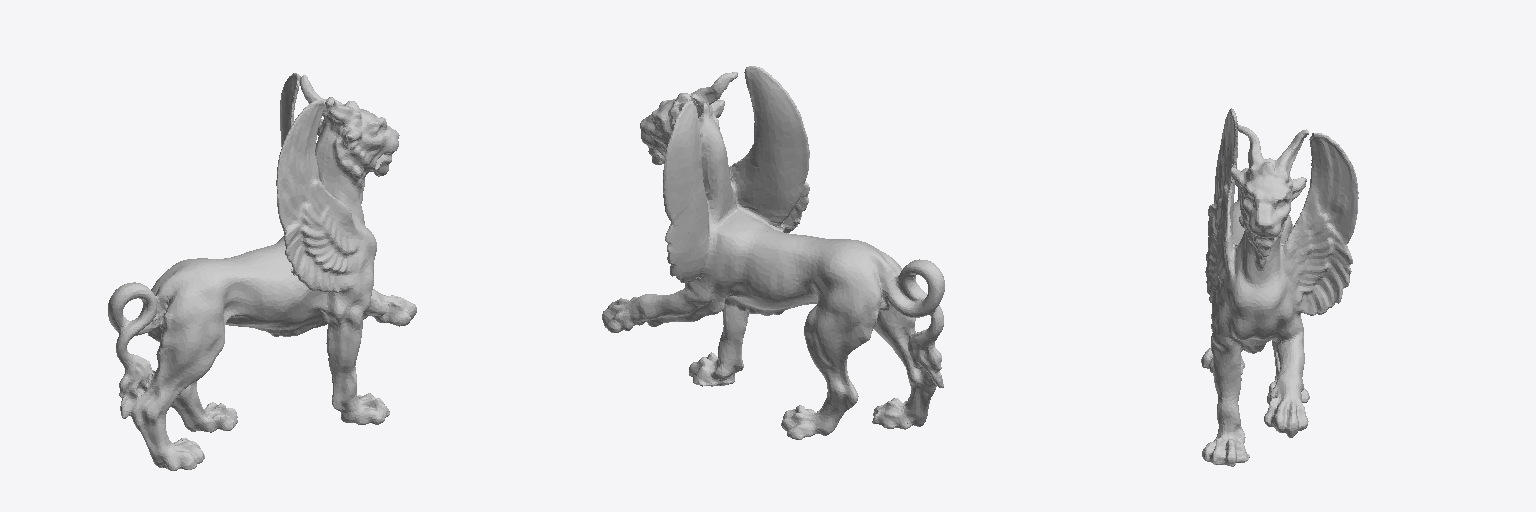
File: feline.obj
3 views of the same model, side by side, from view 1: azimuth 30°, elevation 25°; view 2: azimuth 150°, elevation 25°; view 3: azimuth 270°, elevation 25° (orthographic).
Bounding box in the file's own units: 500 × 486 × 212.